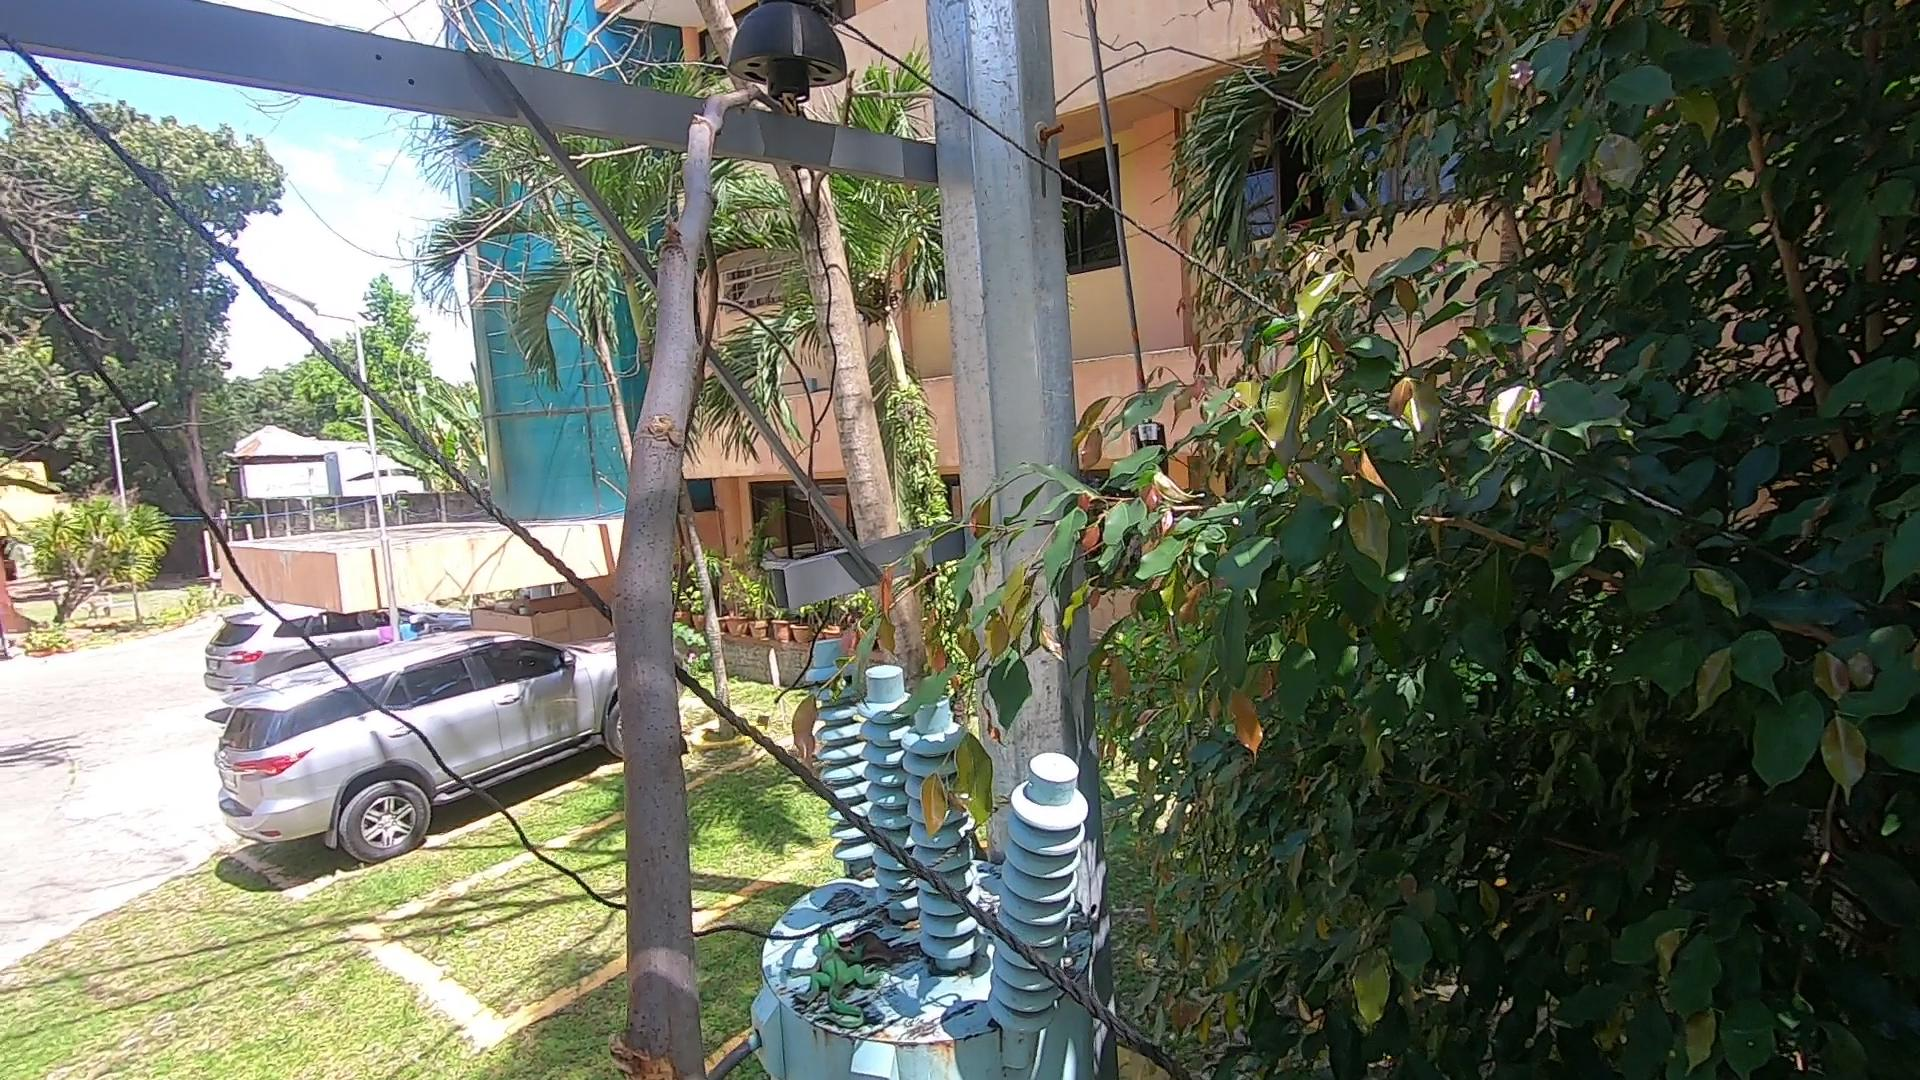branch with leaves: (758, 495, 1069, 849)
leaf: (835, 932, 928, 982), (843, 857, 887, 891)
tree branch: (601, 38, 798, 1080)
